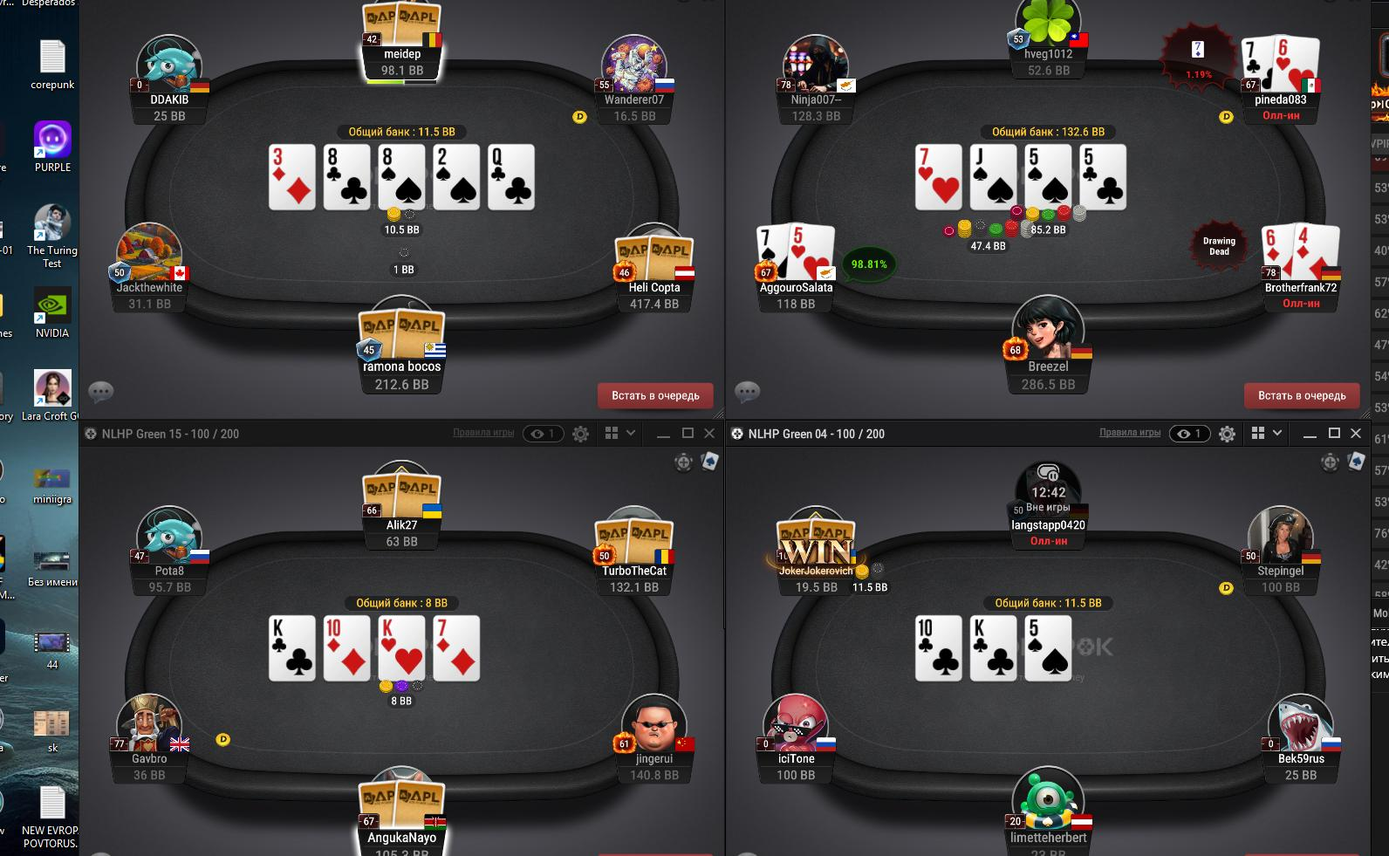10c: (917, 615, 964, 681)
10d: (322, 616, 370, 680)
2s: (433, 144, 481, 208)
3d: (268, 145, 316, 212)
4d: (1294, 217, 1340, 283)
5c: (1081, 145, 1129, 208)
5h: (788, 217, 835, 284)
5s: (1024, 144, 1073, 207), (1026, 616, 1073, 680)
6d: (1261, 223, 1296, 281)
6h: (1274, 32, 1320, 94)
7c: (1240, 36, 1274, 93)
7d: (434, 616, 480, 682)
7h: (915, 145, 962, 208)
7s: (755, 221, 791, 282)
8c: (324, 145, 373, 208)
8s: (378, 142, 423, 212)
Js: (972, 145, 1016, 208)
Kc: (269, 614, 317, 681), (971, 616, 1018, 681)
Kh: (380, 614, 426, 683)
Qs: (488, 144, 535, 212)
